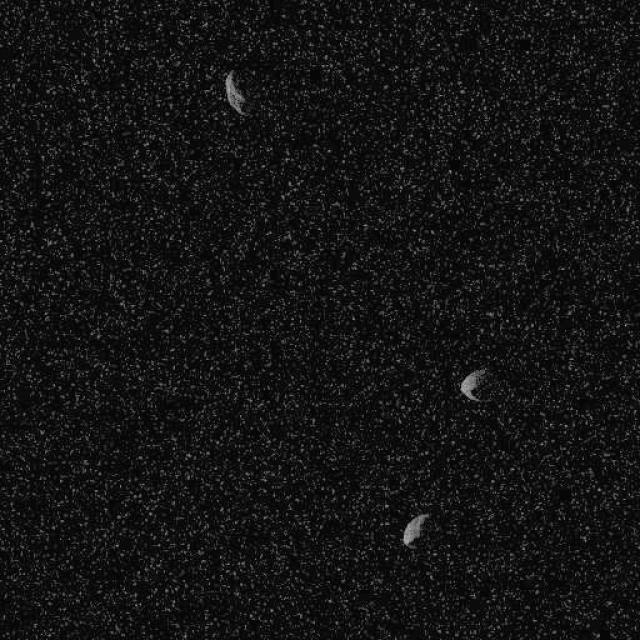D2: (224, 69, 248, 116), (459, 367, 490, 402), (401, 512, 430, 548)
